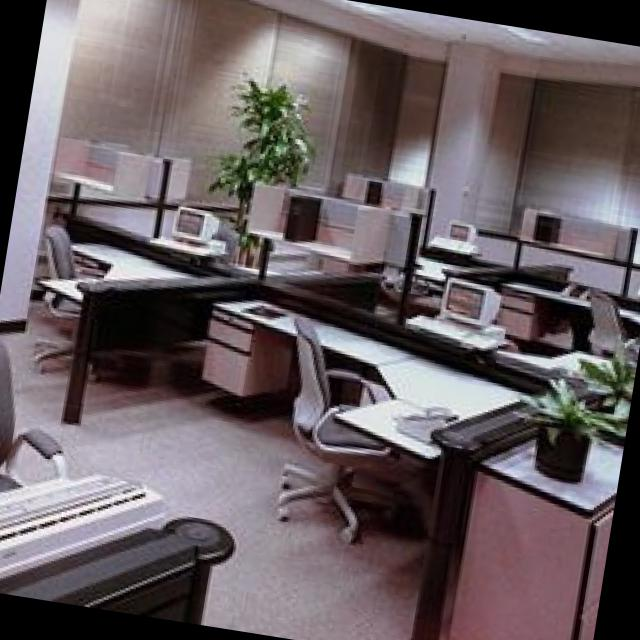book case: (272, 192, 317, 238)
cabinet door: (200, 310, 291, 396)
ceiling beam: (255, 0, 640, 84)
chair -occluded-: (277, 315, 393, 536), (0, 347, 65, 488), (30, 222, 80, 366), (587, 292, 634, 352)
desk calendar: (212, 279, 546, 640), (42, 134, 186, 232), (514, 200, 634, 290), (41, 242, 193, 297), (328, 167, 435, 238), (278, 191, 386, 259), (495, 279, 588, 338)
desk crop: (313, 319, 524, 458), (212, 297, 296, 330)
file organizer: (447, 425, 619, 640)
keyboard crop: (401, 312, 494, 347), (143, 228, 216, 256)
monitor crop: (437, 277, 496, 323), (170, 204, 215, 238), (442, 217, 472, 239)
phone charger: (392, 402, 458, 440), (551, 276, 601, 301)
plant -x: (204, 76, 309, 228), (524, 373, 618, 475), (575, 356, 631, 416)
printer: (0, 470, 160, 572)
shelf crop: (241, 219, 389, 264)
